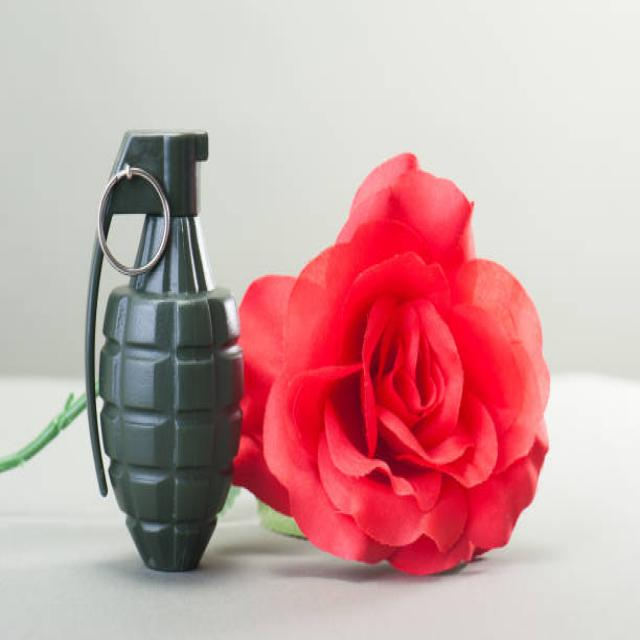grenade: (78, 123, 252, 587)
